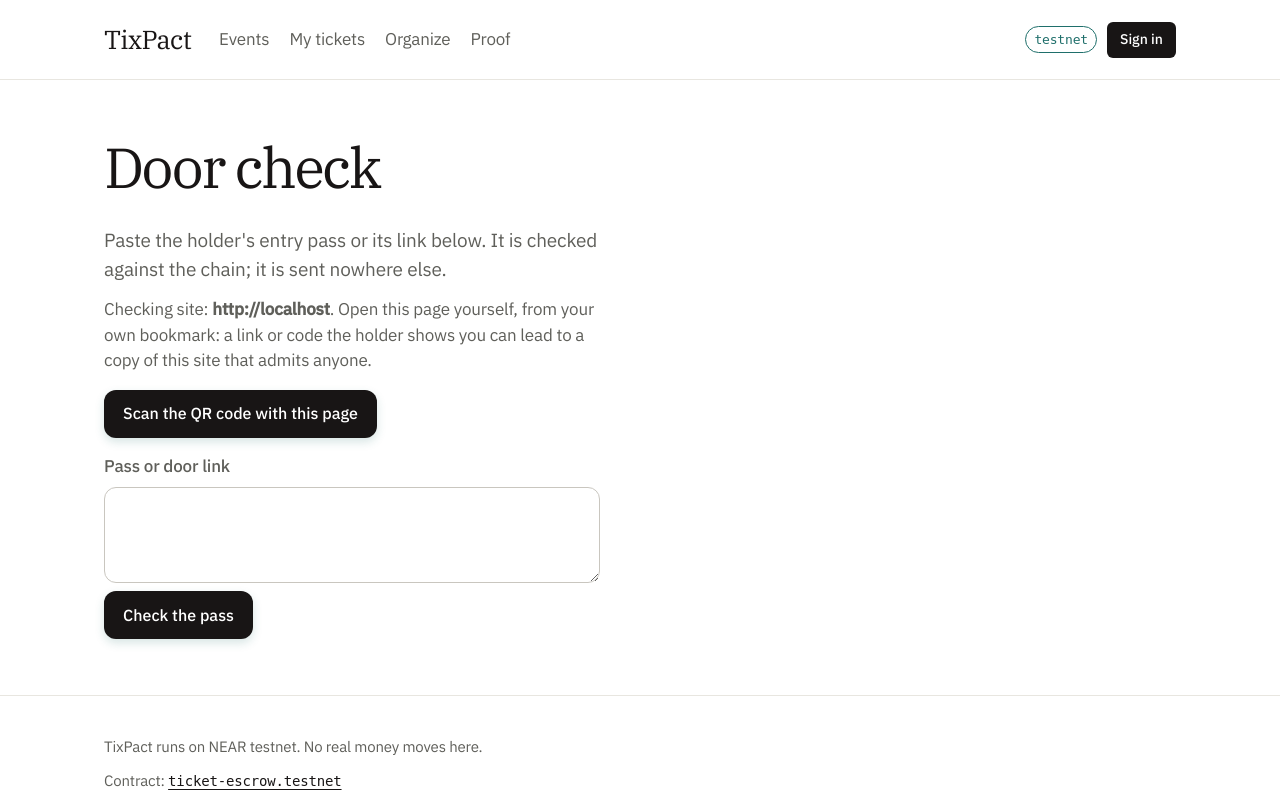
Test: the door scanner › says so when the camera cannot be opened, and keeps the paste box
Step 1. Click the button "Scan the QR code with this page" → click(240, 414), box top-left (104, 390), bottom-right (377, 438)
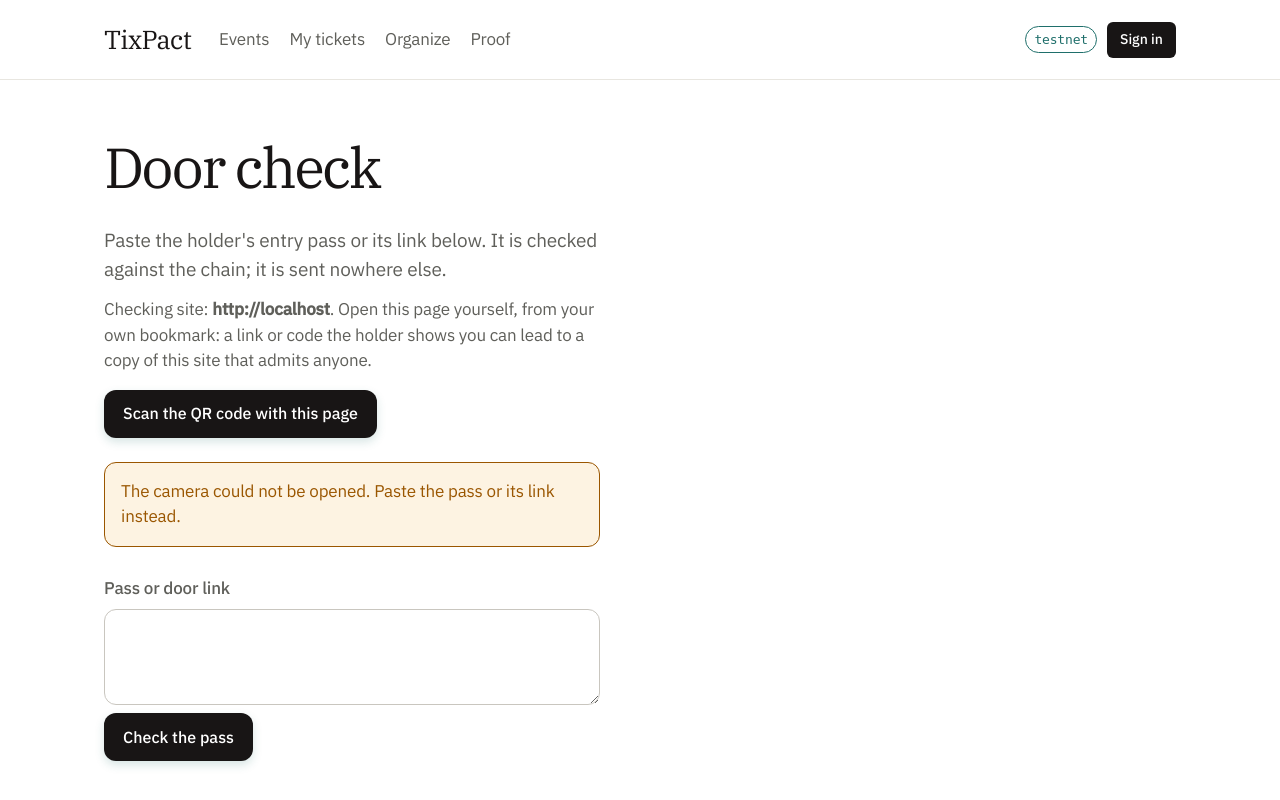
Expected: the text box labelled "Pass or door link" is shown, top-left (104, 609), bottom-right (600, 705)
Expected: the message reads "The camera could not be opened. Paste the pass or its link instead.", top-left (121, 480), bottom-right (554, 527)
